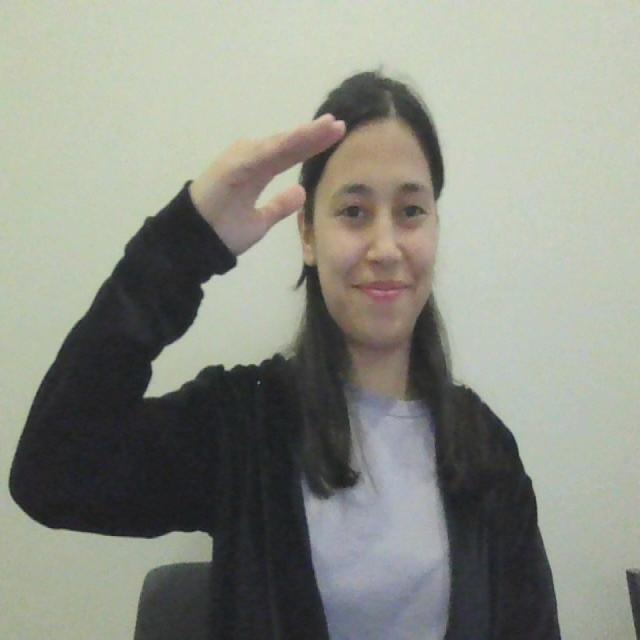Merhaba: (184, 88, 356, 325)
